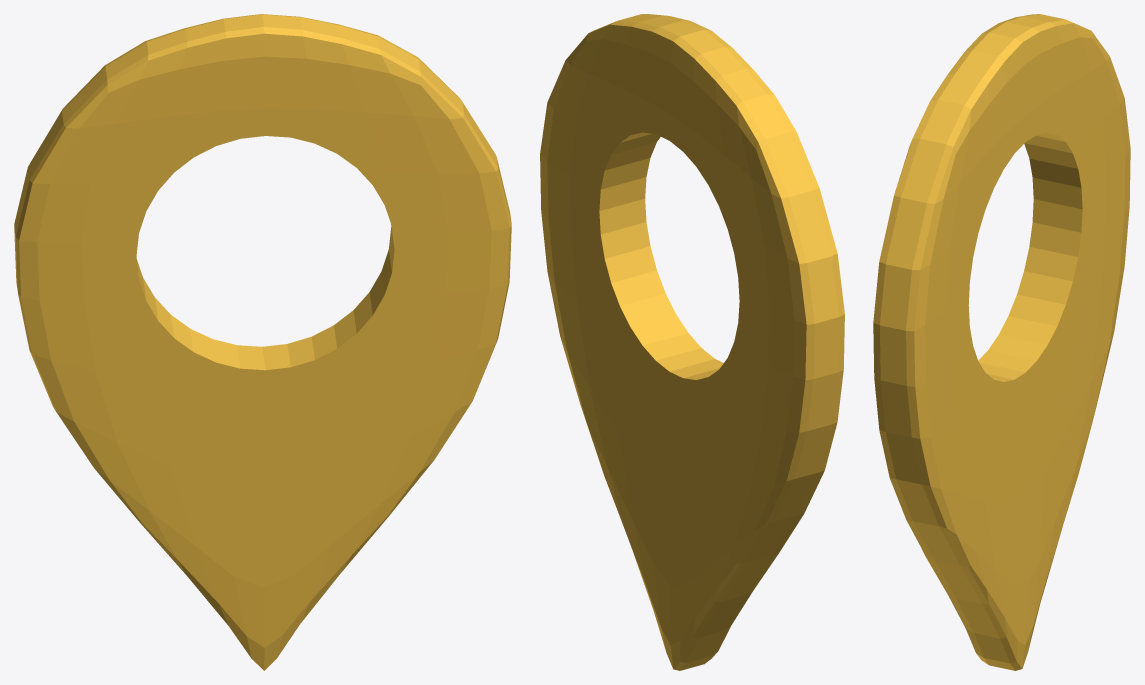
The model's file is MarcadoRetiro-OLD.gltf.
3 renders of one model, left to right at view 1: azimuth 30°, elevation 25°; view 2: azimuth 150°, elevation 25°; view 3: azimuth 270°, elevation 25°, orthographic.
Parts seen in each view (by area): view 1: MarcadoRetiro; view 2: MarcadoRetiro; view 3: MarcadoRetiro.
Part boxes in pixels (x1,y1,x2,y2): MarcadoRetiro: (14,14,511,670); MarcadoRetiro: (540,14,844,670); MarcadoRetiro: (873,14,1130,670).
Size of the model in its own units: 0.461 by 0.7114 by 0.2622.
